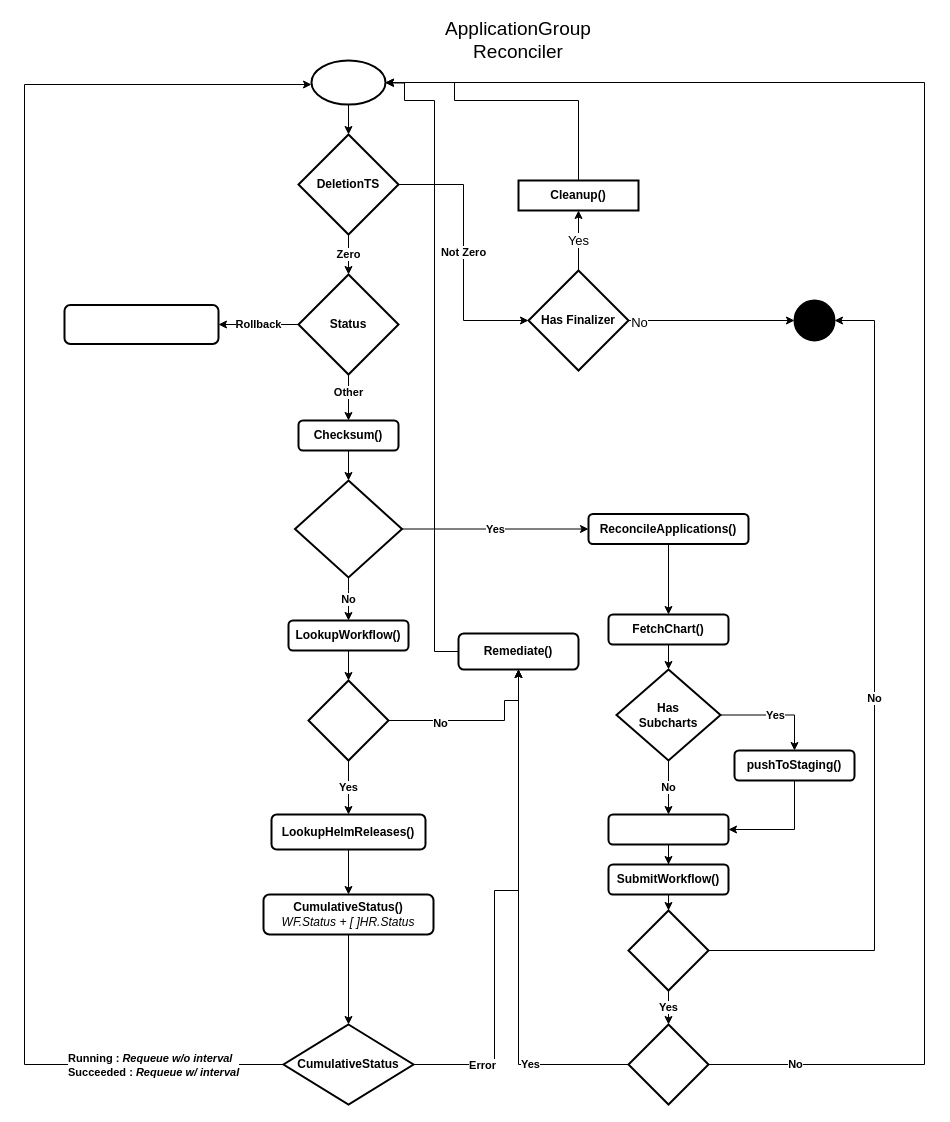
The diagram is 950 pixels wide and 1122 high, and some of its shapes have lost their labels. Each missing label, with the box of its shape:
End: (793, 299, 835, 341)
Errored?: (627, 1023, 709, 1105)
Found: (307, 679, 389, 761)
GenerateWorkflow(): (607, 813, 729, 845)
Mismatch or Unset: (294, 479, 402, 578)
Reconcile: (310, 59, 386, 105)
Requeue: (627, 909, 709, 991)
Rollback() to lastSuccessfulSpec: (63, 304, 219, 344)
